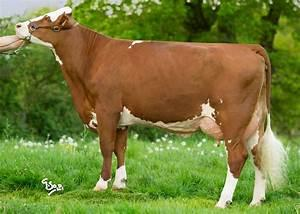cow: (14, 6, 289, 208)
